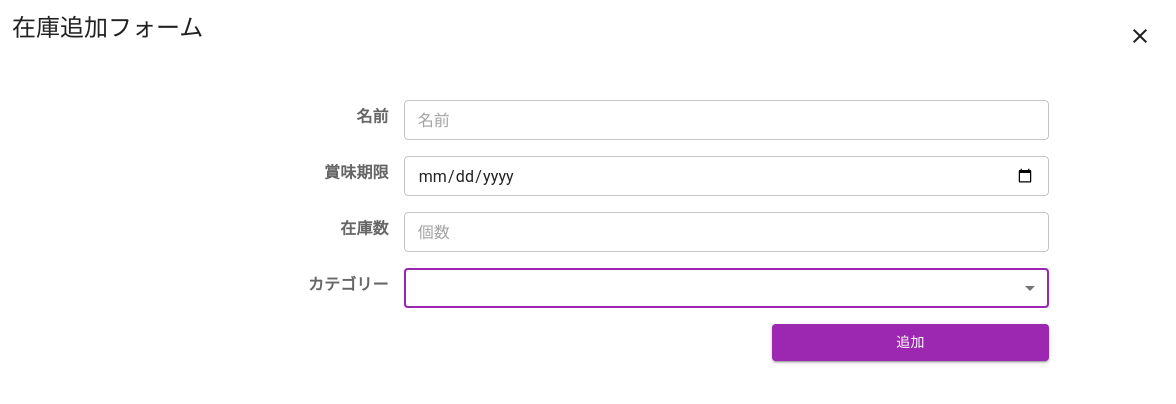
Test: 在庫追加フォーム › 個数入力欄に0を入力したらバリデーションエラーが表示される
Type "0" into the number field with placeholder "個数" at (726, 232), box [404,212,1049,252]
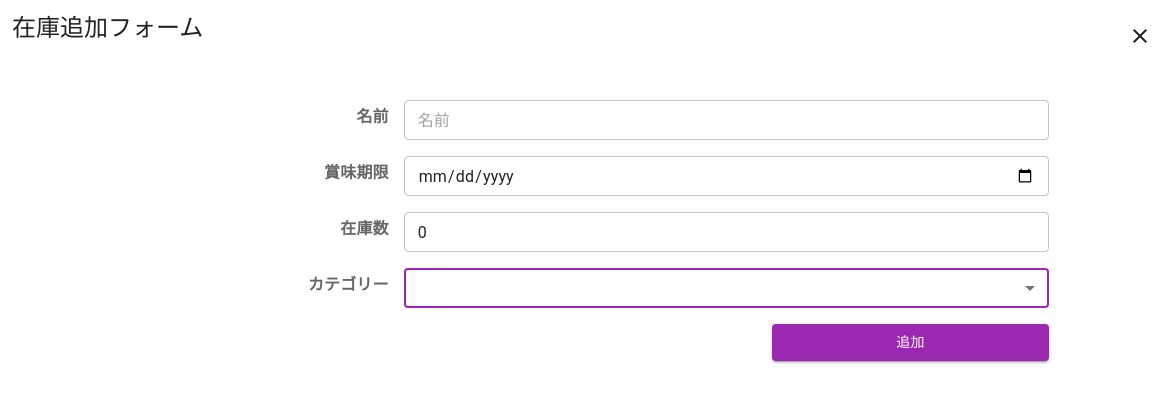
Leave the number field with placeholder "個数", box [404,212,1049,252]
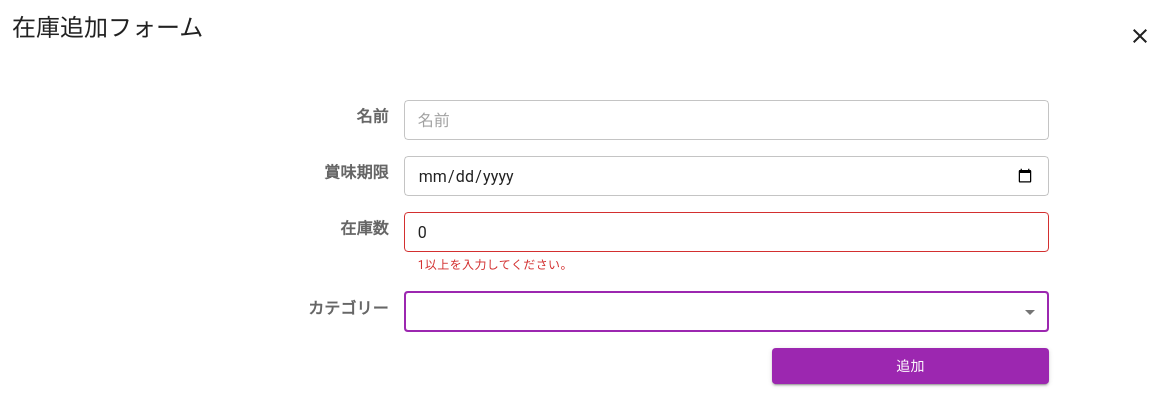
expect the text "1以上を入力してください。" is shown: met, box [418,258,573,272]
